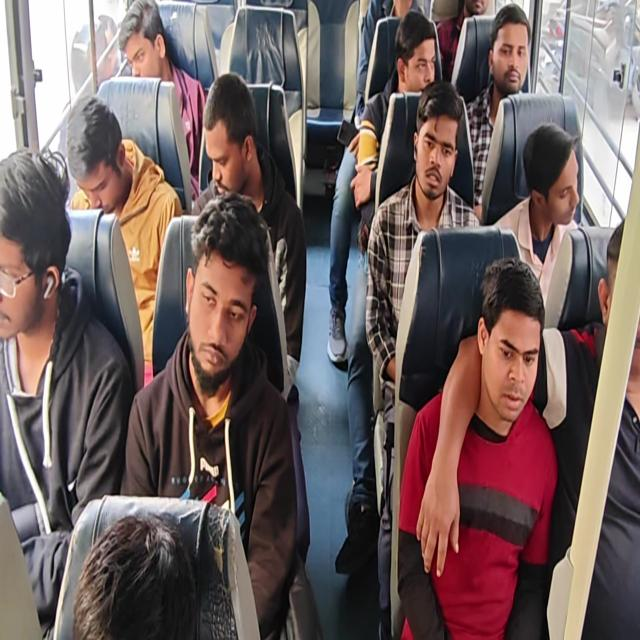person: (64, 496, 195, 640), (0, 134, 79, 362), (185, 202, 260, 392), (475, 252, 535, 414), (61, 88, 139, 207), (190, 74, 262, 198), (594, 206, 640, 388), (404, 71, 462, 204), (524, 116, 584, 234), (113, 0, 180, 89), (483, 1, 532, 90), (393, 10, 442, 94), (462, 1, 492, 14)
